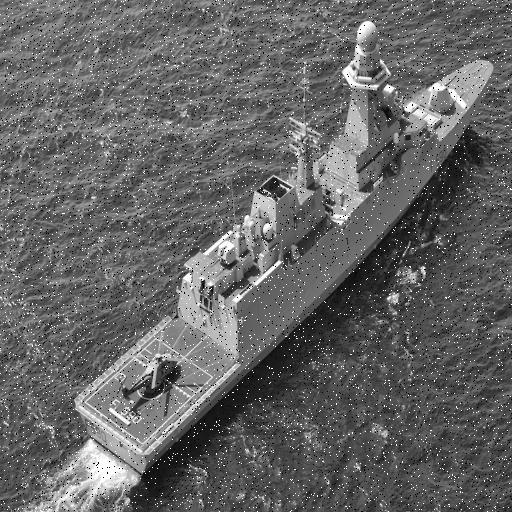Fragata: (1, 12, 331, 485)
